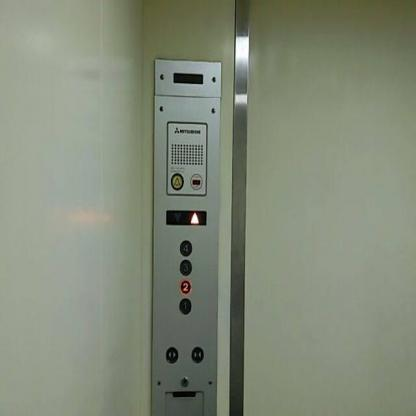1: (178, 296, 191, 314)
2: (178, 278, 192, 295)
3: (178, 258, 192, 276)
4: (178, 237, 191, 256)
alarm: (170, 170, 184, 191)
close: (190, 345, 203, 363)
keyhole: (180, 375, 189, 387)
led: (165, 209, 207, 225), (172, 71, 202, 82)
open: (164, 345, 179, 364)
unknown: (190, 171, 201, 189)
